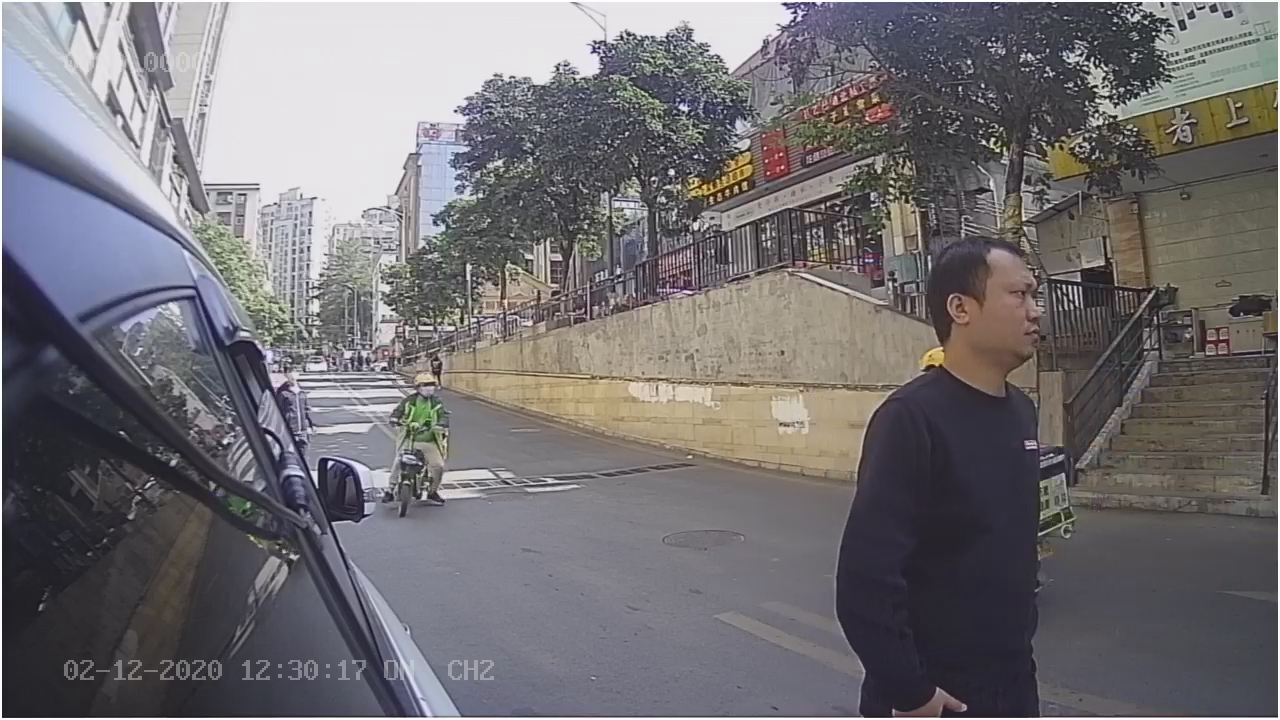person: (835, 231, 1057, 577)
